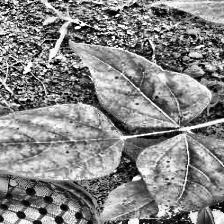ALS: (64, 38, 206, 124), (136, 135, 224, 223), (0, 113, 121, 174)
